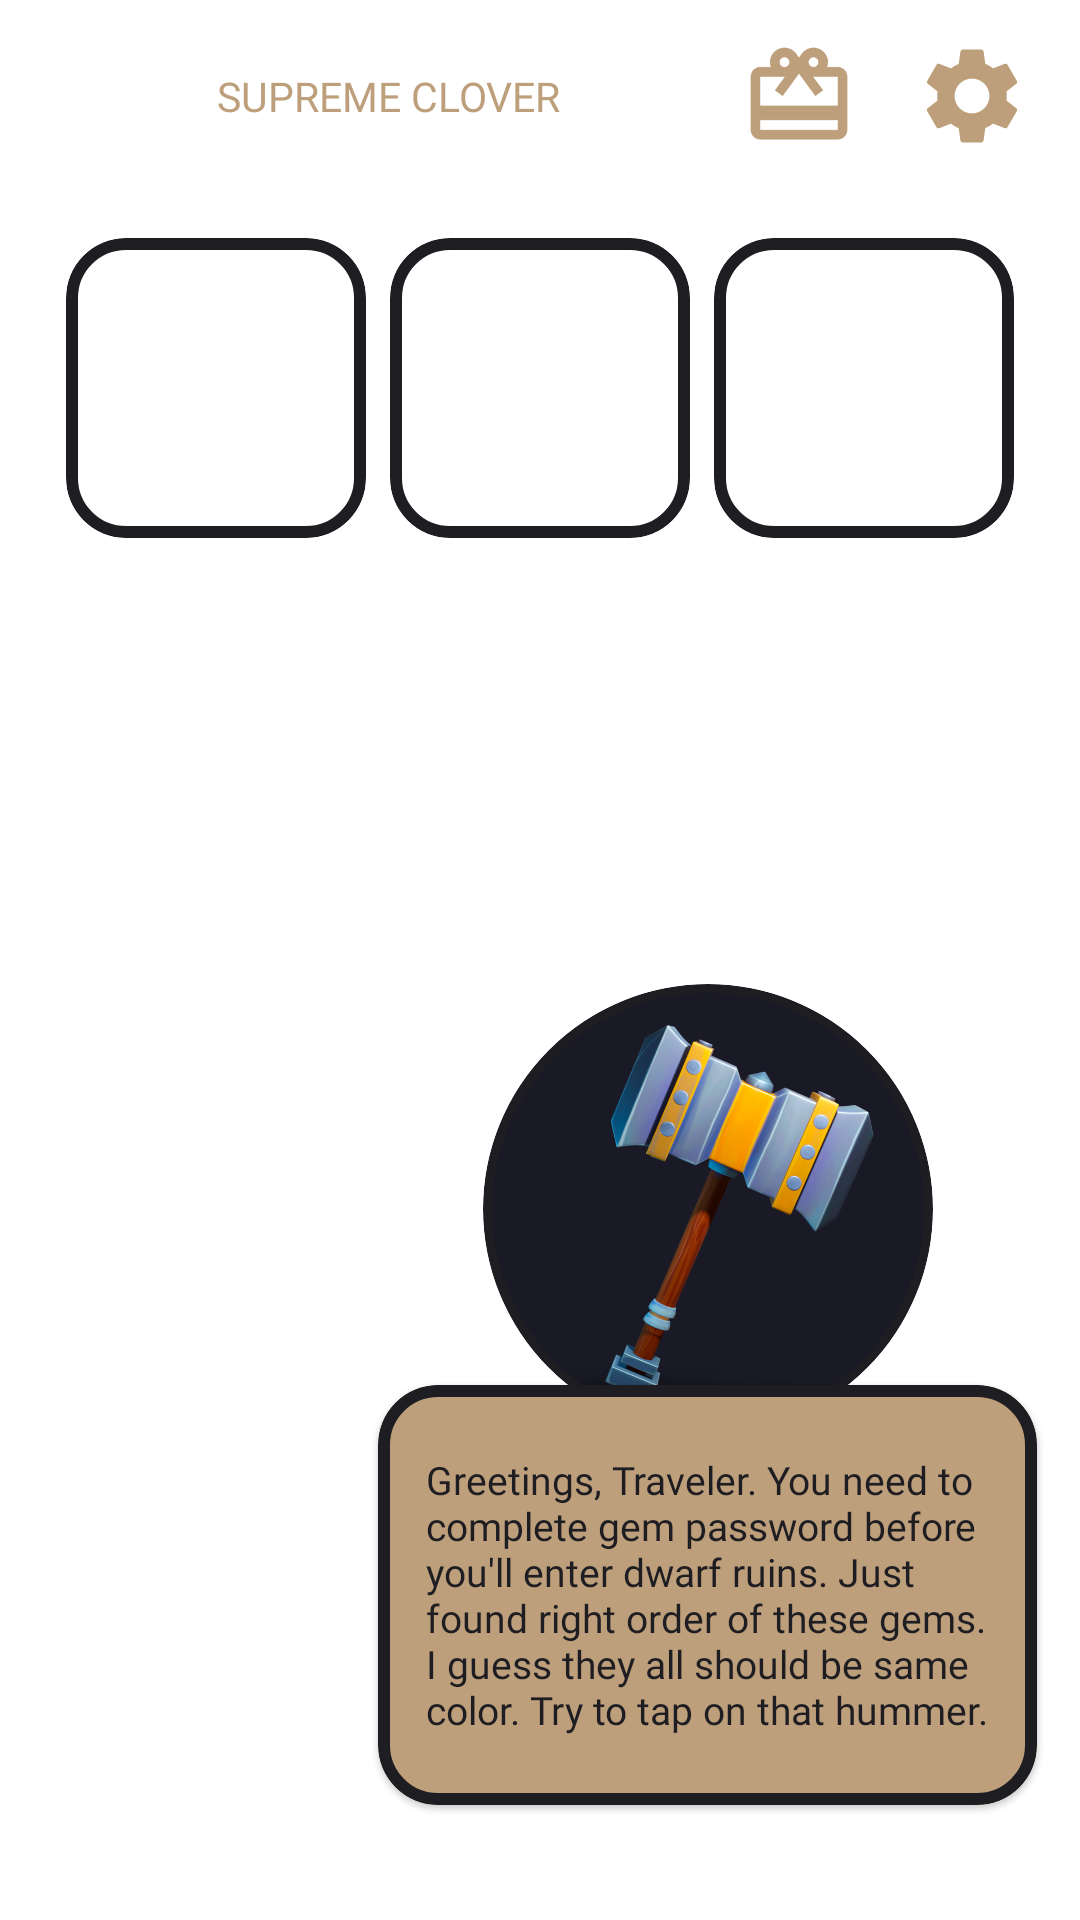

Icons on this 1080 x 1920 Android screen, each with the point to tap as (x=x, y=y):
gift: (x=799, y=93)
settings: (x=972, y=96)
